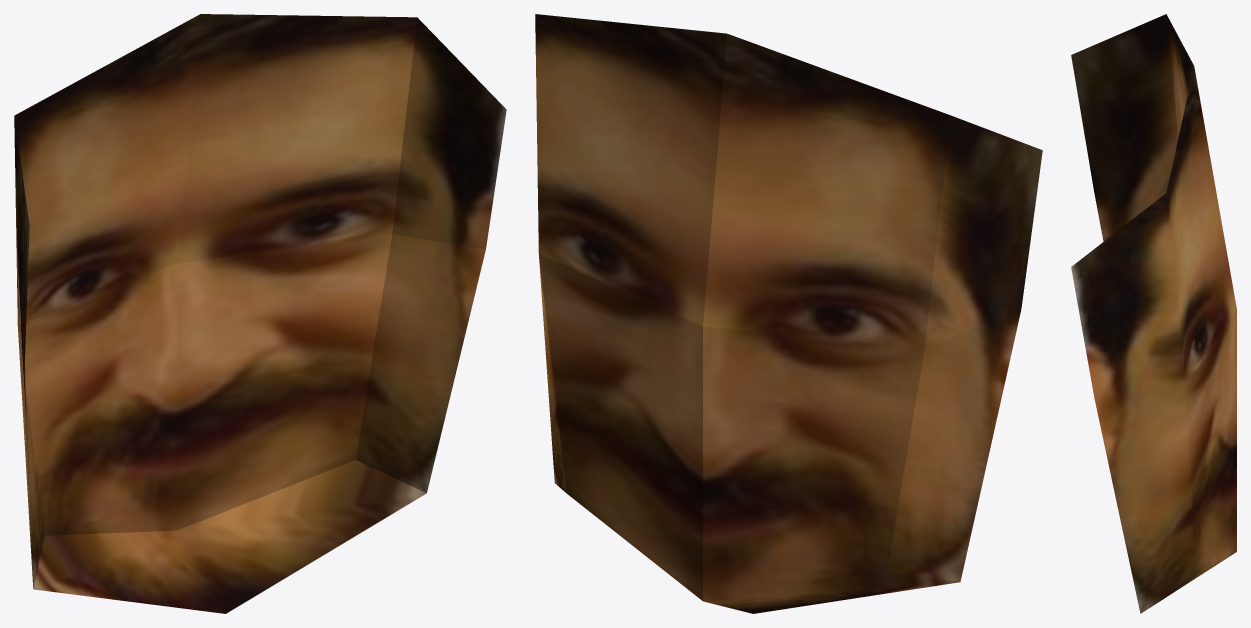
File: MertFace.fbx
3 renders of one model, left to right at view 1: azimuth 30°, elevation 25°; view 2: azimuth 150°, elevation 25°; view 3: azimuth 270°, elevation 25°, orthographic. The views are drawn at different scales.
Visible parts, largest first — view 1: MertFace; view 2: MertFace; view 3: MertFace.
Part boxes in pixels (<box>): MertFace: <box>14,14,506,613</box>; MertFace: <box>535,14,1042,613</box>; MertFace: <box>1071,14,1236,613</box>.
Size of the model in its own units: 20.99 by 24.44 by 6.93.
